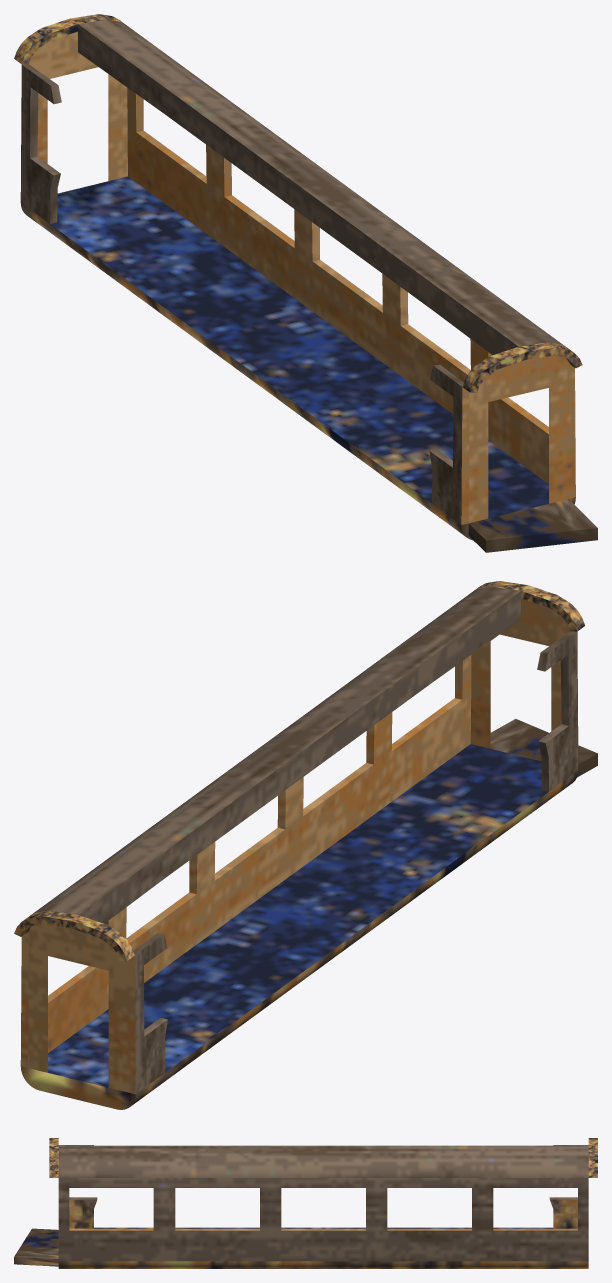
Rendered from carriageConnector.fbx.
3 views of the same model, one above another, from view 1: azimuth 30°, elevation 25°; view 2: azimuth 150°, elevation 25°; view 3: azimuth 270°, elevation 25° (orthographic). The views are drawn at different scales.
Parts seen in each view (by area): view 1: Cube.002; view 2: Cube.002; view 3: Cube.002.
Boxes of the visible parts, bbox=[...] form: Cube.002: bbox=[14, 14, 597, 552]; Cube.002: bbox=[14, 581, 597, 1109]; Cube.002: bbox=[14, 1138, 597, 1268].
Bounding box in the file's own units: 600 × 922 × 4406.
1 material, 1 textured.
